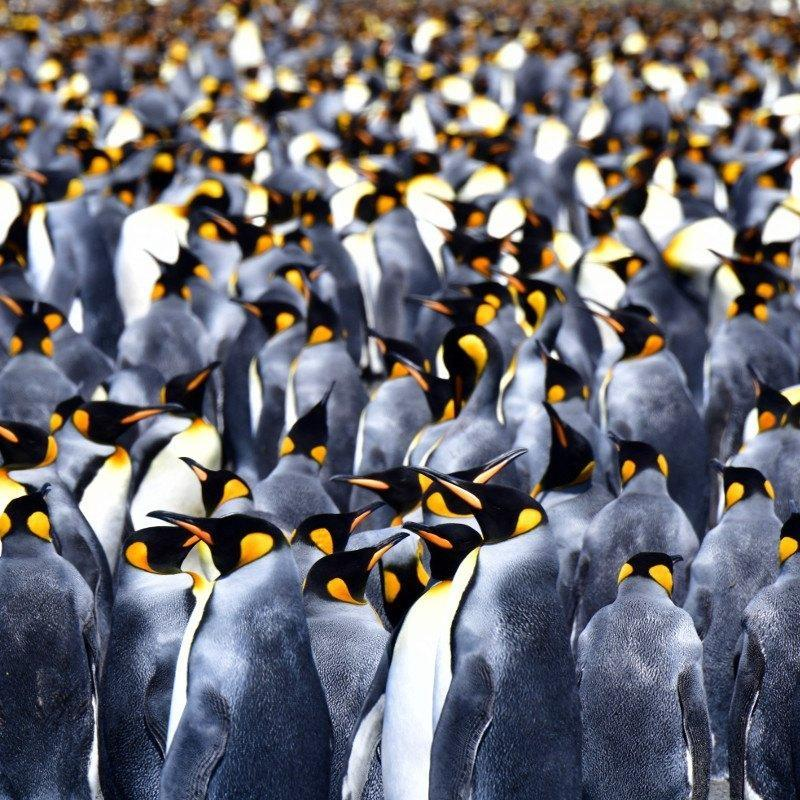Penguin: (151, 513, 329, 799), (427, 470, 579, 798), (341, 520, 480, 799), (577, 552, 711, 799), (0, 489, 101, 798), (684, 463, 780, 777), (303, 533, 406, 799), (100, 527, 198, 799), (572, 438, 698, 639), (598, 306, 708, 533), (701, 295, 799, 521), (26, 156, 130, 358), (52, 400, 172, 574), (728, 514, 798, 798), (529, 399, 610, 629), (349, 197, 450, 373), (130, 363, 222, 530), (286, 292, 368, 477), (605, 252, 708, 399), (117, 175, 226, 303), (228, 296, 304, 477), (424, 323, 511, 472), (489, 265, 604, 377), (118, 249, 215, 378), (354, 323, 432, 474), (252, 393, 340, 526), (727, 360, 799, 521), (536, 337, 611, 486), (0, 297, 78, 429), (403, 291, 517, 367), (708, 249, 799, 344), (186, 460, 293, 540), (213, 306, 263, 474), (224, 207, 296, 305), (291, 502, 381, 580), (421, 182, 553, 234), (575, 198, 633, 315), (398, 354, 454, 465), (426, 223, 539, 276), (444, 282, 529, 343), (338, 466, 423, 523), (173, 244, 224, 329), (92, 363, 163, 406), (514, 405, 548, 487), (421, 482, 478, 530), (450, 449, 527, 483), (206, 368, 223, 430)
